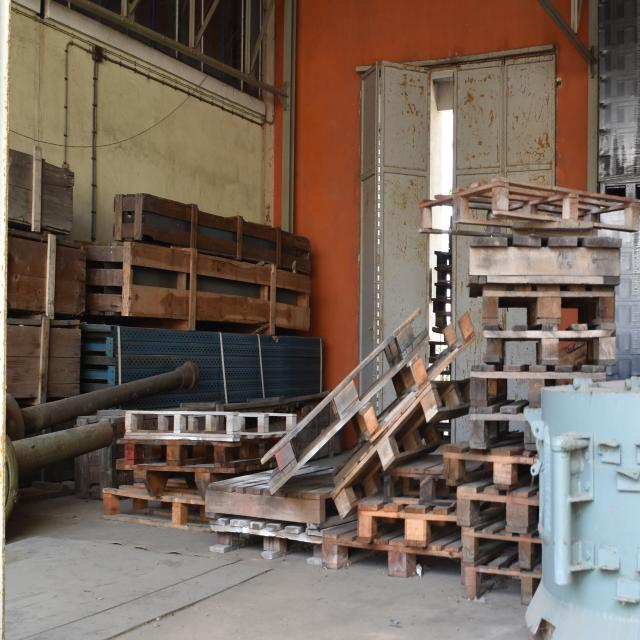entulho: (270, 324, 420, 485), (86, 243, 316, 338), (338, 332, 467, 498), (115, 187, 314, 275), (107, 408, 299, 468), (416, 191, 640, 233), (472, 232, 621, 290), (0, 319, 83, 406), (322, 528, 471, 576), (481, 279, 611, 331), (4, 234, 87, 310), (471, 359, 607, 405), (206, 473, 343, 518), (0, 157, 79, 229), (103, 473, 208, 527), (478, 325, 613, 366), (446, 448, 550, 498), (357, 493, 463, 540), (458, 482, 547, 536), (214, 518, 327, 558), (460, 520, 543, 572), (458, 563, 547, 602), (465, 409, 541, 453)
